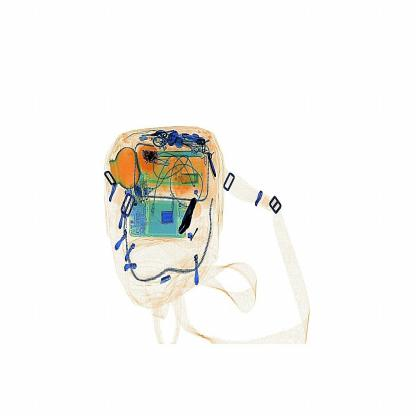knife: (177, 194, 196, 239)
